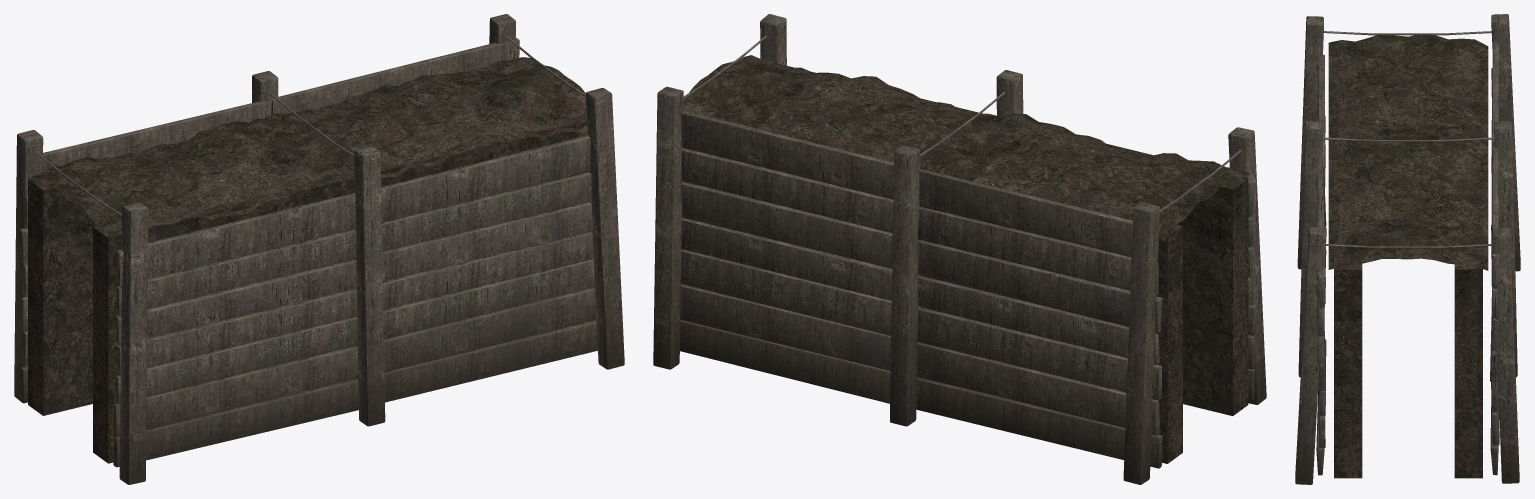
File: trench_berm.glb
3 renders of one model, left to right at view 1: azimuth 30°, elevation 25°; view 2: azimuth 150°, elevation 25°; view 3: azimuth 270°, elevation 25°, orthographic. The views are drawn at different scales.
Visible parts, largest first — view 1: trench_berm_Wood, trench_berm_Earth, trench_berm_Iron; view 2: trench_berm_Wood, trench_berm_Earth, trench_berm_Iron; view 3: trench_berm_Earth, trench_berm_Wood, trench_berm_Iron.
Part boxes in pixels (bbox=[...]): trench_berm_Wood: bbox=[14, 14, 624, 484]; trench_berm_Earth: bbox=[28, 57, 594, 463]; trench_berm_Iron: bbox=[35, 36, 607, 216]; trench_berm_Wood: bbox=[653, 14, 1266, 484]; trench_berm_Earth: bbox=[682, 55, 1250, 463]; trench_berm_Iron: bbox=[683, 35, 1241, 224]; trench_berm_Earth: bbox=[1328, 35, 1488, 478]; trench_berm_Wood: bbox=[1295, 14, 1520, 484]; trench_berm_Iron: bbox=[1307, 30, 1509, 248].
Size of the model in its own units: 3 by 1.55 by 1.27.
3 materials, 3 textured.
